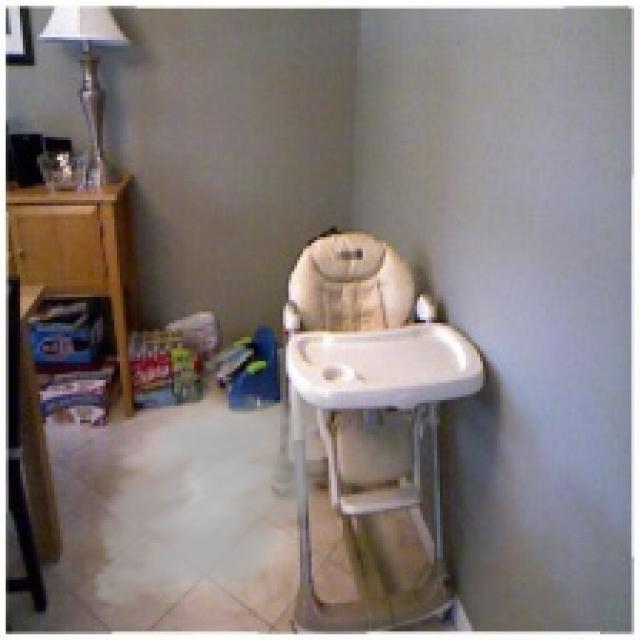Smoke: (83, 372, 343, 632)
